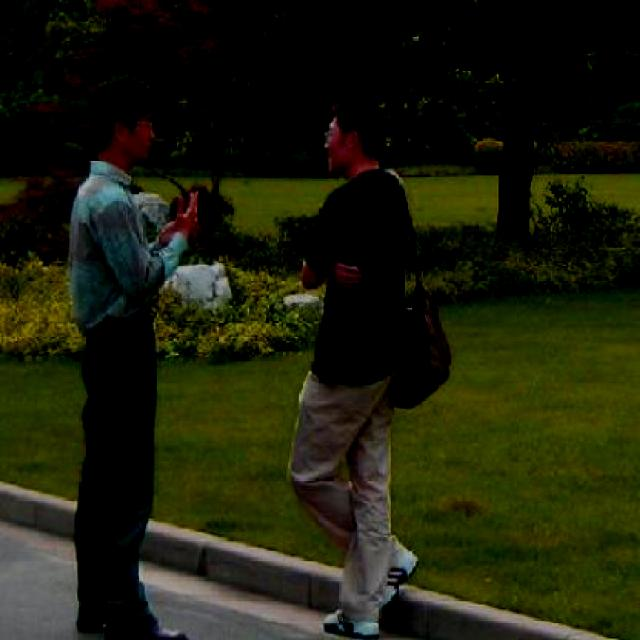Person: (277, 87, 433, 638), (61, 72, 204, 638)
